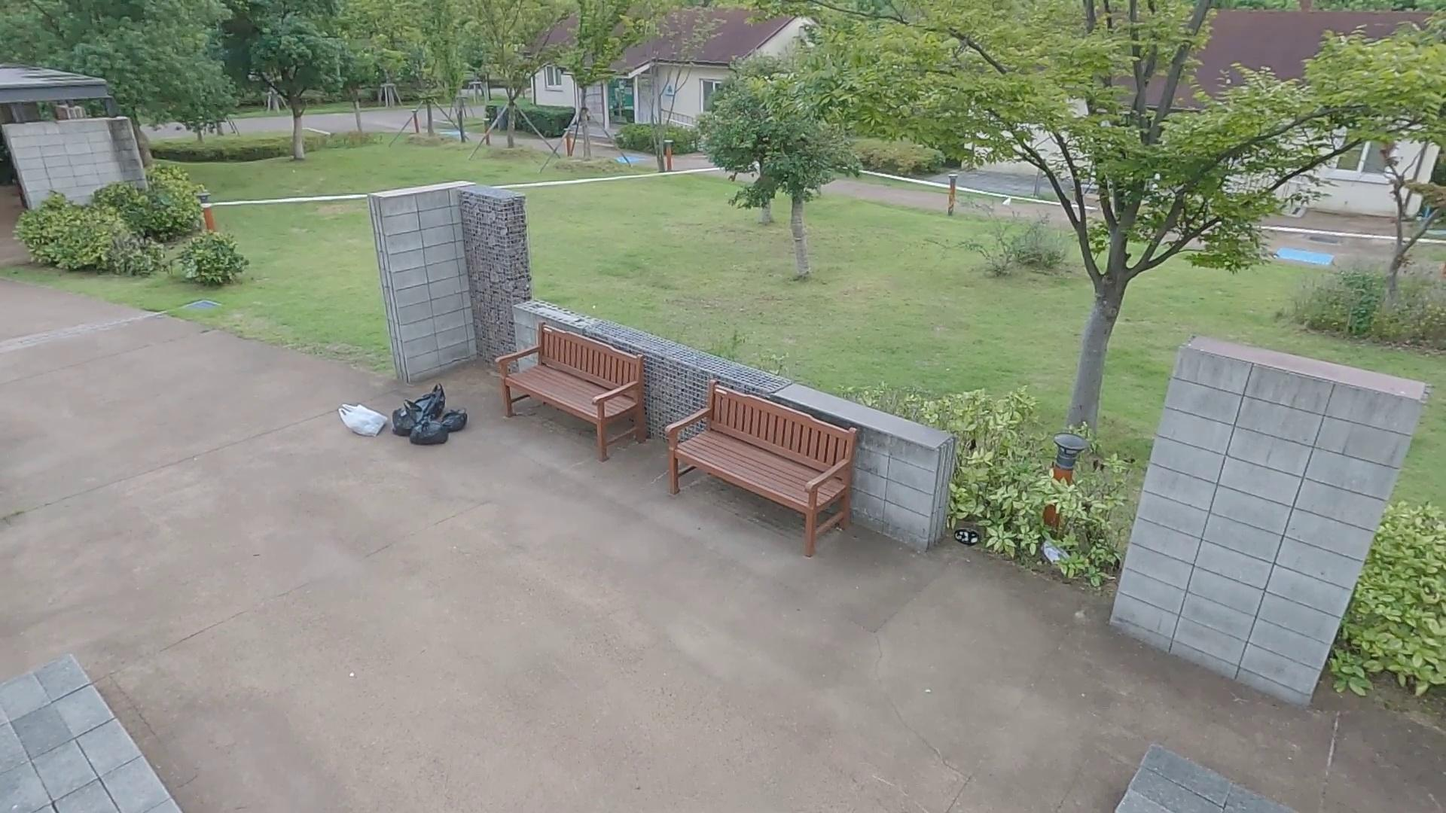trash: (336, 401, 388, 437), (390, 400, 426, 437), (412, 382, 446, 418), (409, 414, 449, 444), (1039, 537, 1071, 566), (439, 406, 470, 432), (951, 527, 982, 547)
